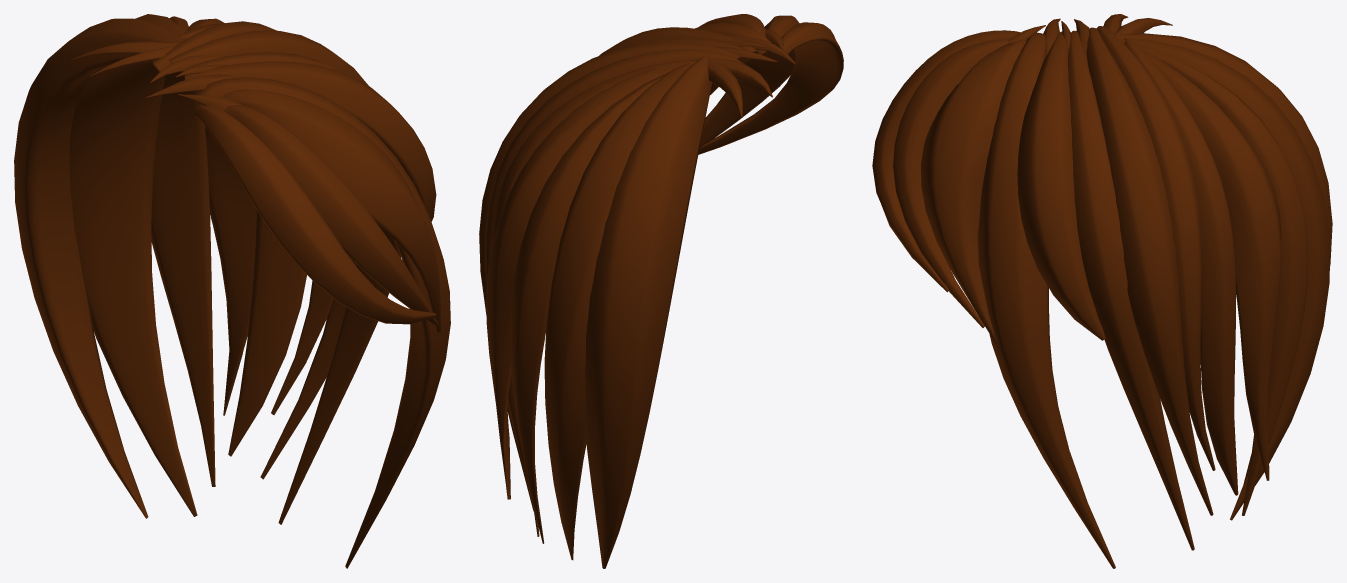
File: hair01.fbx
3 renders of one model, left to right at view 1: azimuth 30°, elevation 25°; view 2: azimuth 150°, elevation 25°; view 3: azimuth 270°, elevation 25°, orthographic. The views are drawn at different scales.
Parts seen in each view (by area): view 1: Hair01; view 2: Hair01; view 3: Hair01.
Part boxes in pixels (x1,y1,x2,y2): Hair01: (14, 14, 450, 568); Hair01: (479, 14, 843, 568); Hair01: (872, 14, 1332, 568).
Bounding box in the file's own units: 63.29 × 108 × 96.06.
